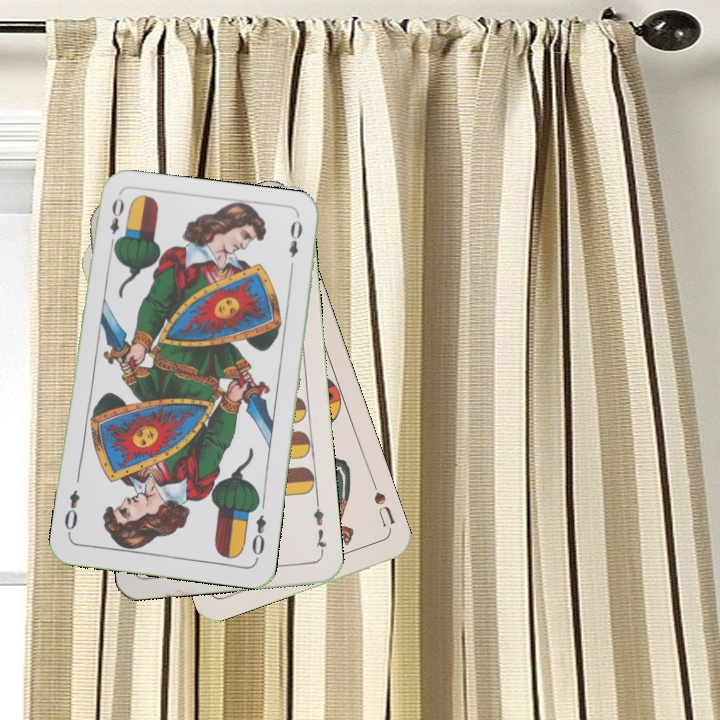E7: (310, 498, 330, 558)
EO: (105, 194, 127, 252), (247, 511, 269, 563)
SU: (368, 476, 398, 534)
